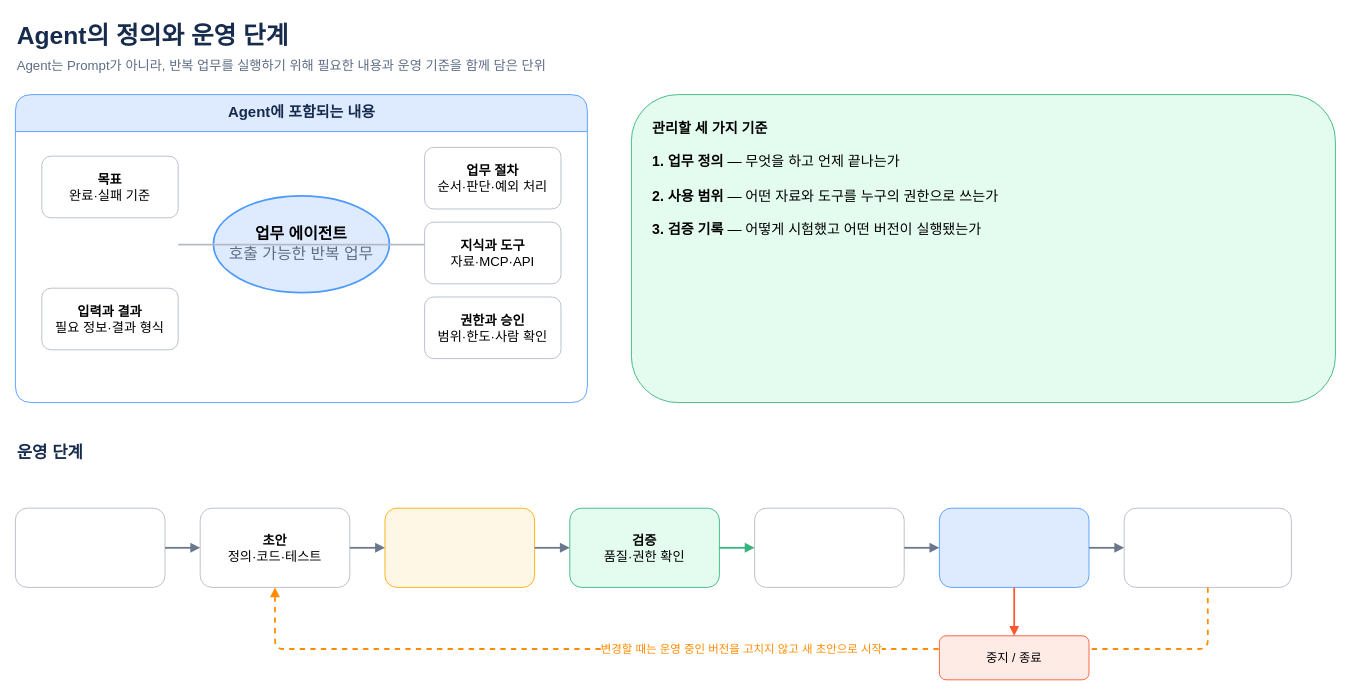
Some shapes in this 1351 by 695 pixel diagram are drawn without their labels. The shapes that lost their labels are listed below. From the top down, each one's centre as x and y in pixels, then its label:
the point at 90,547: 업무 정리 사례·담당자
the point at 459,547: 실행 준비 설치·시험 실행
the point at 829,547: 배포 버전 변경하지 않는 결과물
the point at 1014,547: 운영 중 채널에서 반복 사용
the point at 1207,547: 관찰·개선 품질·비용·실패 확인
